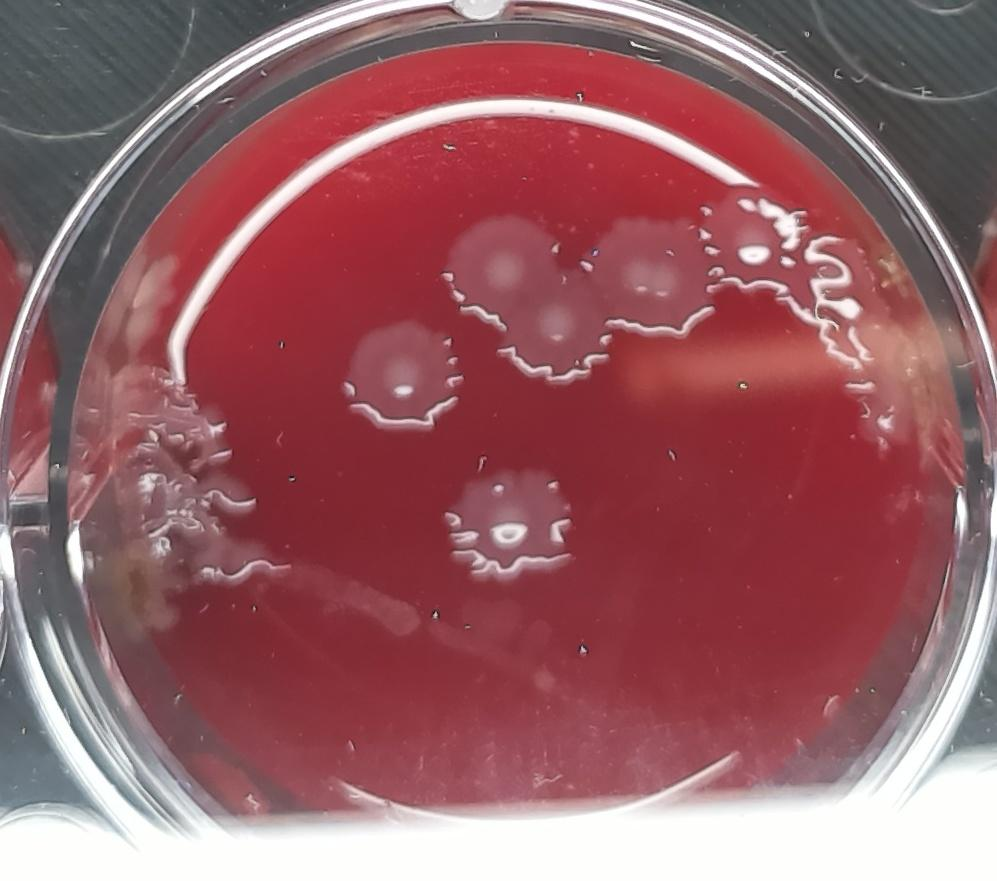vproteolyticus: (792, 233, 929, 460), (452, 211, 611, 376), (332, 306, 464, 437), (439, 457, 575, 584), (587, 211, 718, 342), (709, 182, 803, 292)
